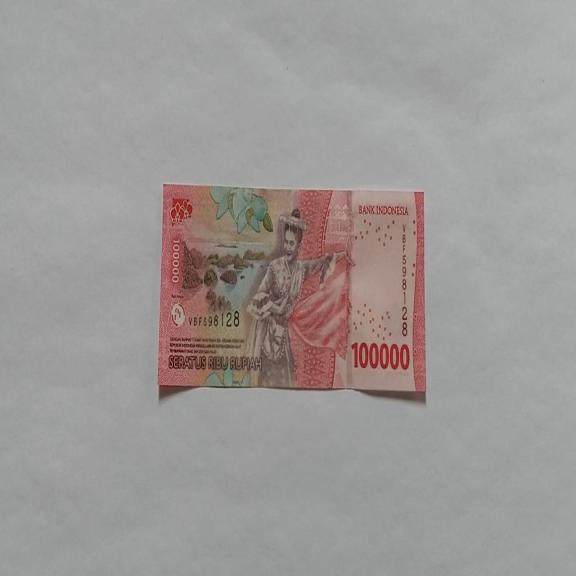Kertas: (157, 183, 426, 397), (350, 339, 410, 371)
